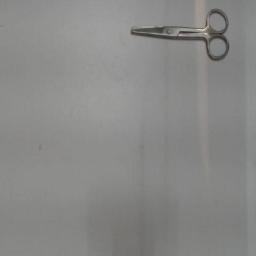Dressing Scissors: (127, 4, 235, 66)
